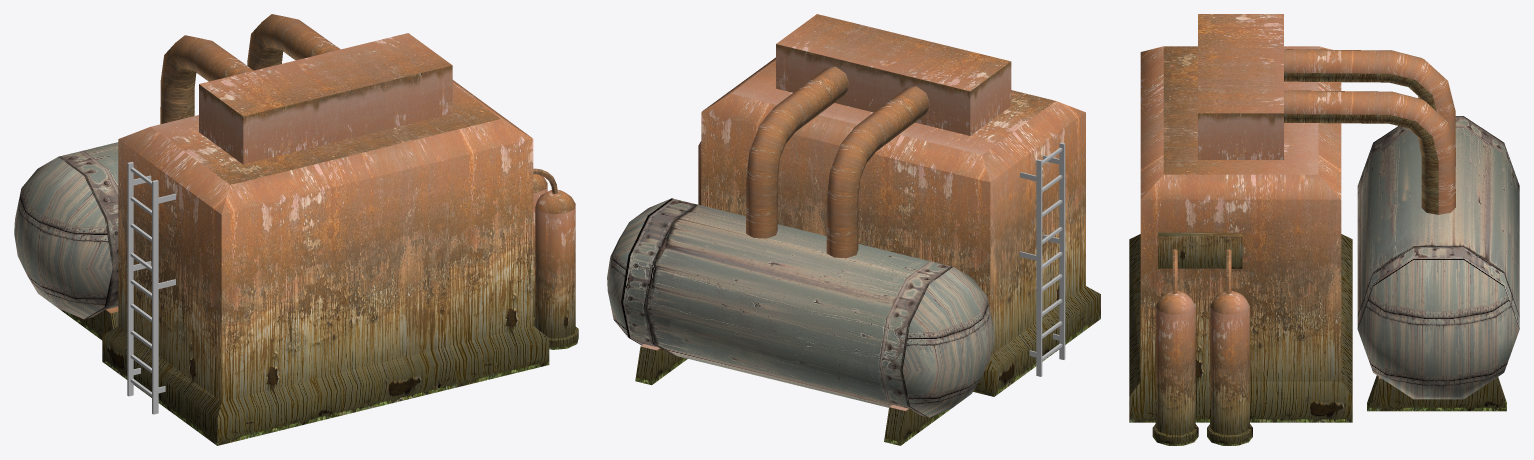
Rendered from tank01_lod0.fbx.
The picture shows the model from 3 angles, left to right: view 1: azimuth 30°, elevation 25°; view 2: azimuth 150°, elevation 25°; view 3: azimuth 270°, elevation 25°; orthographic projection. The views are drawn at different scales.
Visible parts, largest first — view 1: Mesh Object; view 2: Mesh Object; view 3: Mesh Object.
Part boxes in pixels (x1,y1,x2,y2): Mesh Object: (14, 14, 578, 445); Mesh Object: (607, 14, 1100, 445); Mesh Object: (1129, 14, 1519, 445).
Bounding box in the file's own units: 5.25 × 3.55 × 4.43.
